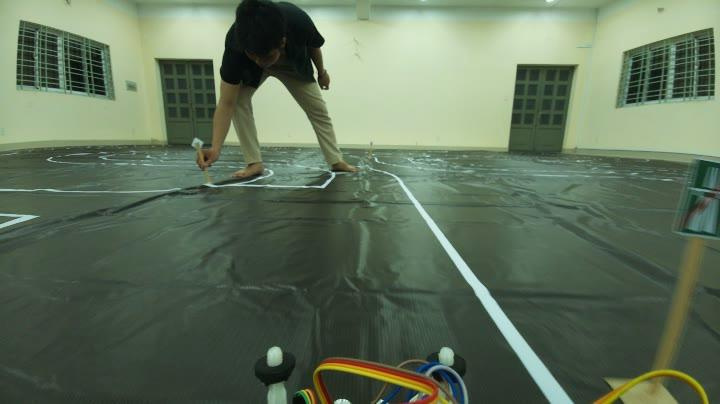highway_exit: (678, 160, 718, 249)
